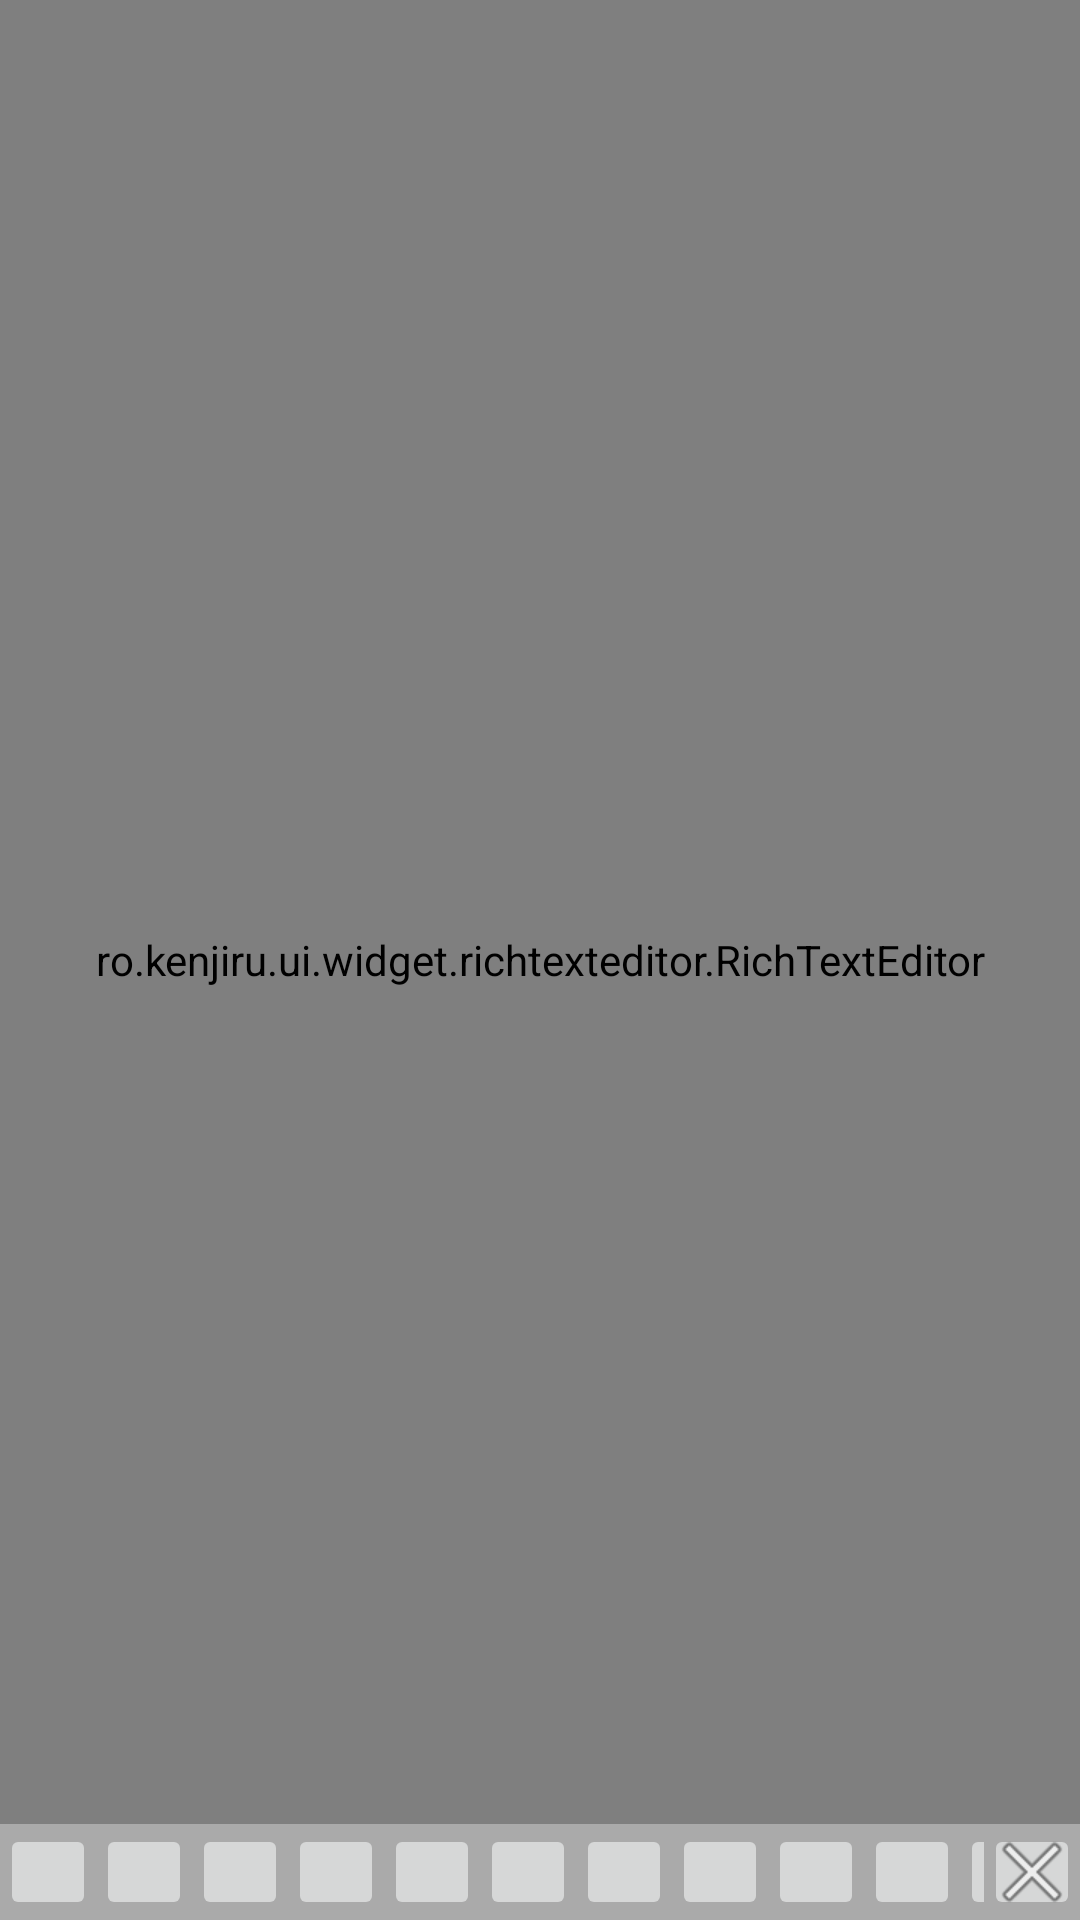

Named icons in this screenshot (1080 × 1920) and their centers, (x,y):
close clear cancel: (1032,1872)
